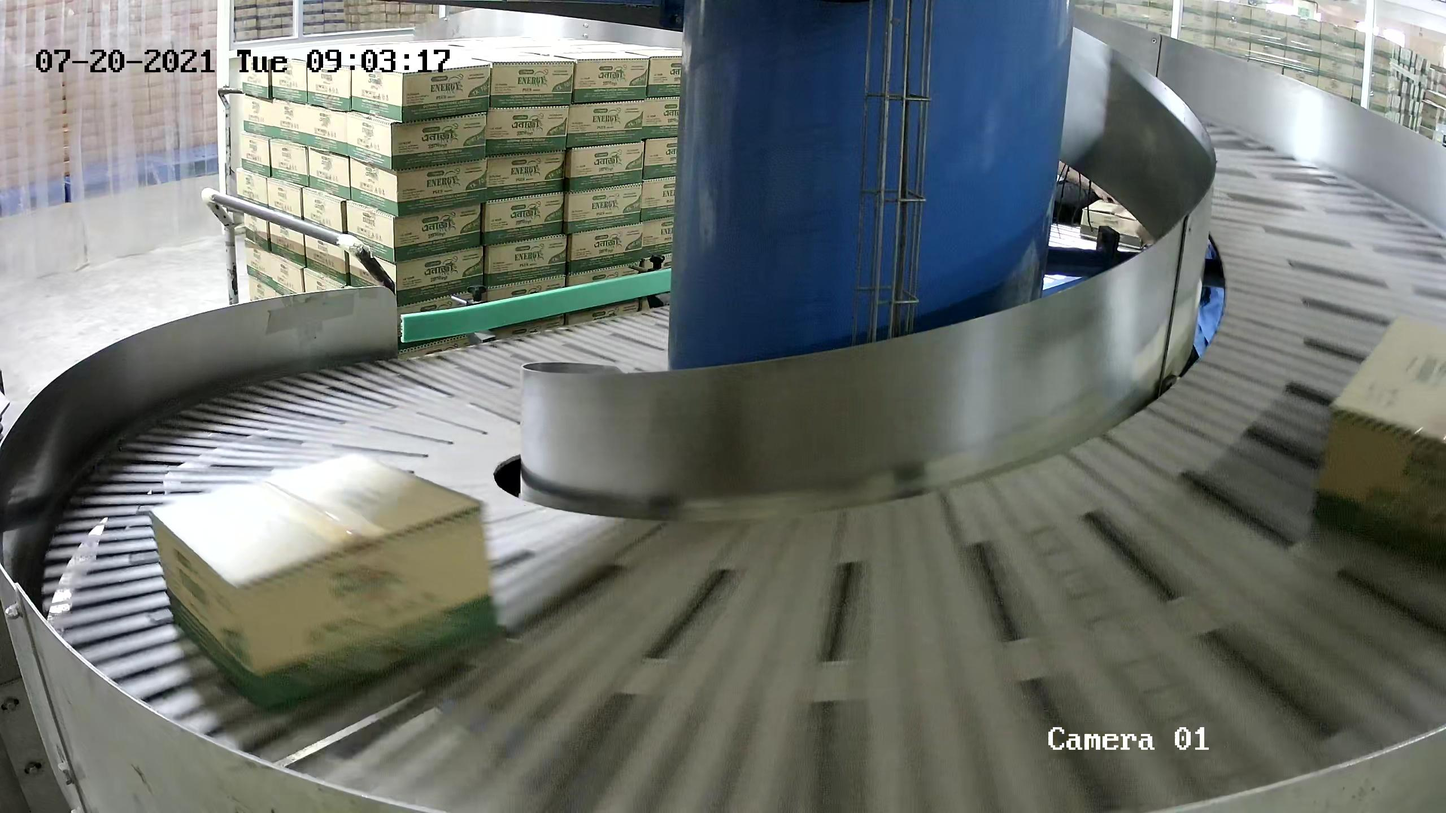Box: (147, 449, 499, 712), (1307, 308, 1446, 567)
